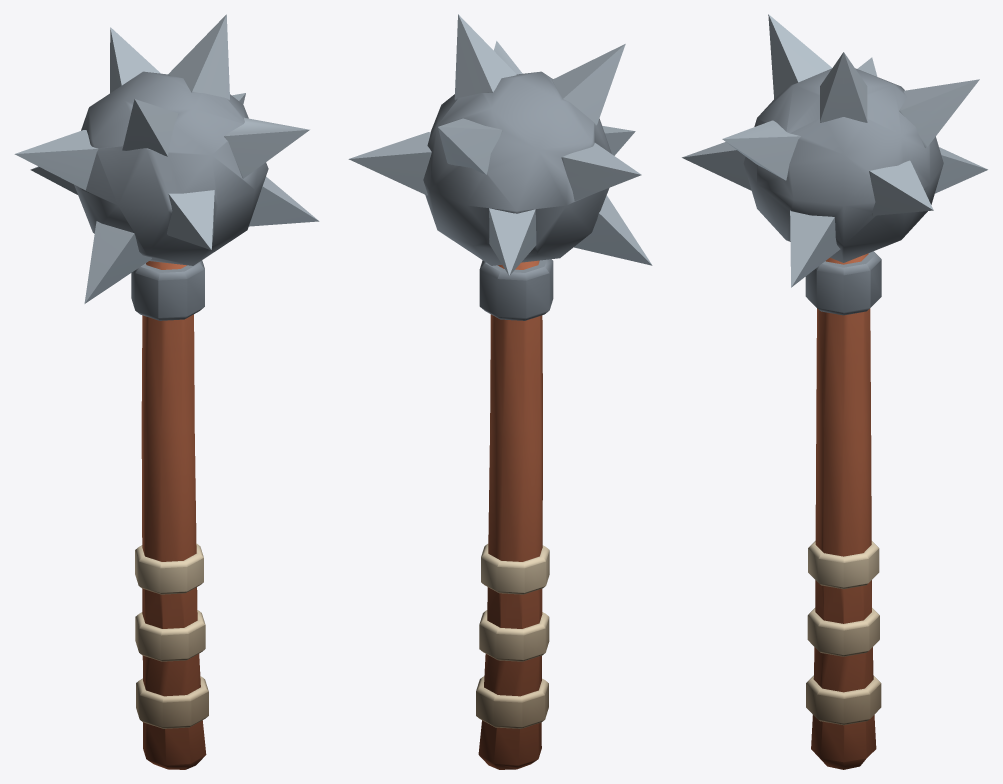
Rendered from morning_star_iron.glb.
3 renders of one model, left to right at view 1: azimuth 30°, elevation 25°; view 2: azimuth 150°, elevation 25°; view 3: azimuth 270°, elevation 25°, orthographic.
Visible parts, largest first — view 1: Item; view 2: Item; view 3: Item.
Part boxes in pixels (x1,y1,x2,y2): Item: (14,14,319,769); Item: (348,14,652,769); Item: (682,14,987,769).
Size of the model in its own units: 0.5783 by 1.54 by 0.5829.
2 materials, 2 textured.
